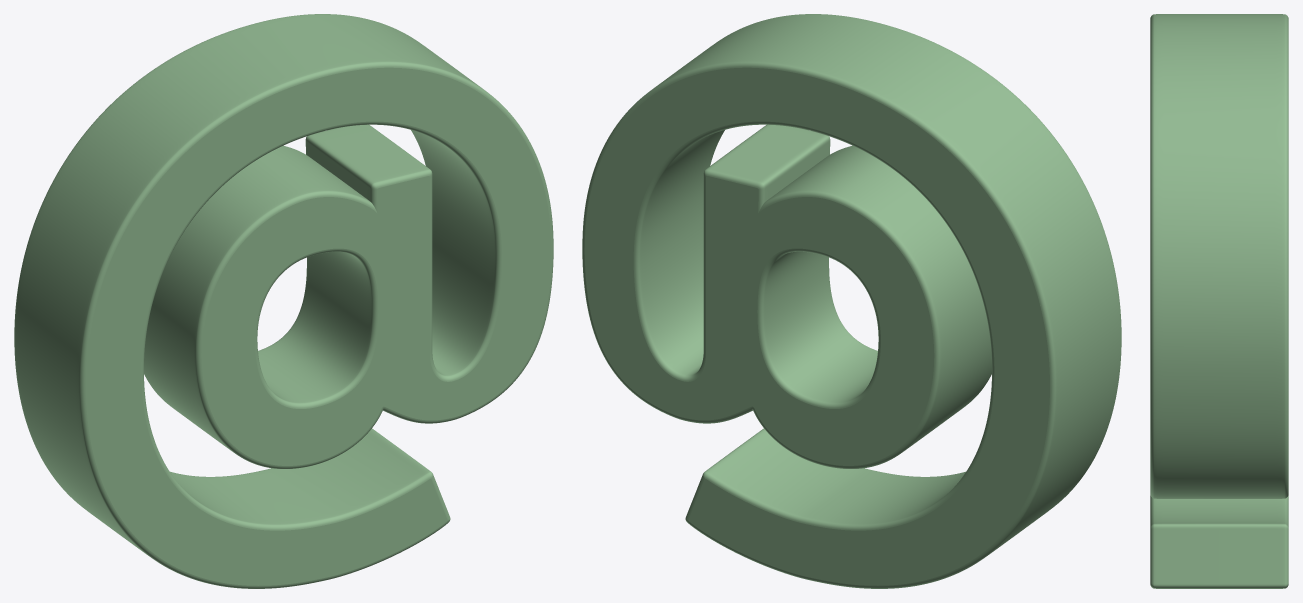
The picture shows the model from 3 angles, left to right: view 1: azimuth 30°, elevation 25°; view 2: azimuth 150°, elevation 25°; view 3: azimuth 270°, elevation 25°; orthographic projection.
Visible parts, largest first — view 1: Curve; view 2: Curve; view 3: Curve.
Part boxes in pixels (x1,y1,x2,y2): Curve: (14, 14, 553, 588); Curve: (582, 14, 1121, 588); Curve: (1150, 14, 1288, 588).
Size of the model in its own units: 177 by 182 by 44.75.
